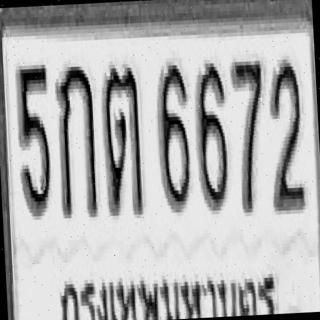A01: (54, 62, 98, 218)
A21: (100, 64, 145, 216)
N02: (266, 59, 306, 211)
N05: (15, 61, 54, 217)
N06: (154, 59, 193, 211), (193, 59, 231, 211)
N07: (230, 57, 269, 213)
